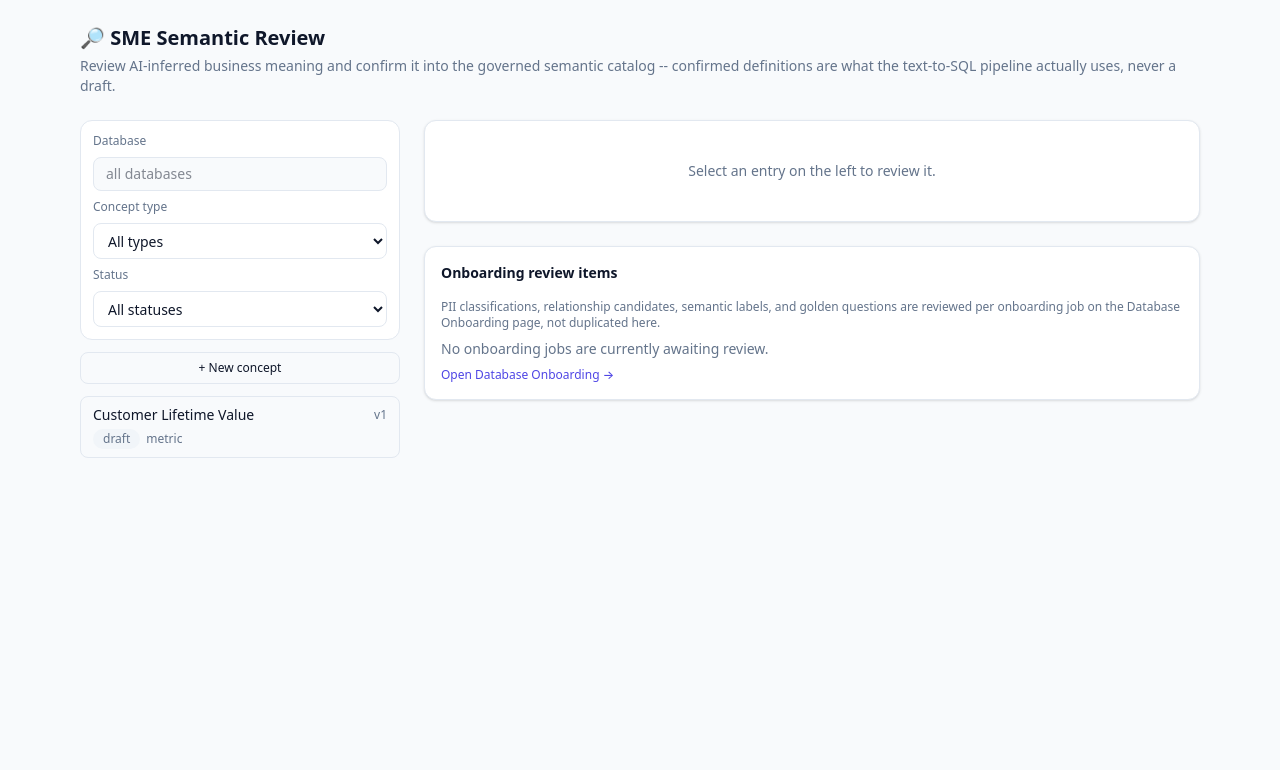
Test: SemanticReview › renders the entry list and selecting one shows its detail
The image size is (1280, 770).
Click the button "Customer Lifetime Value v1 draft metric": (240, 427) top-left (80, 396), bottom-right (400, 458)
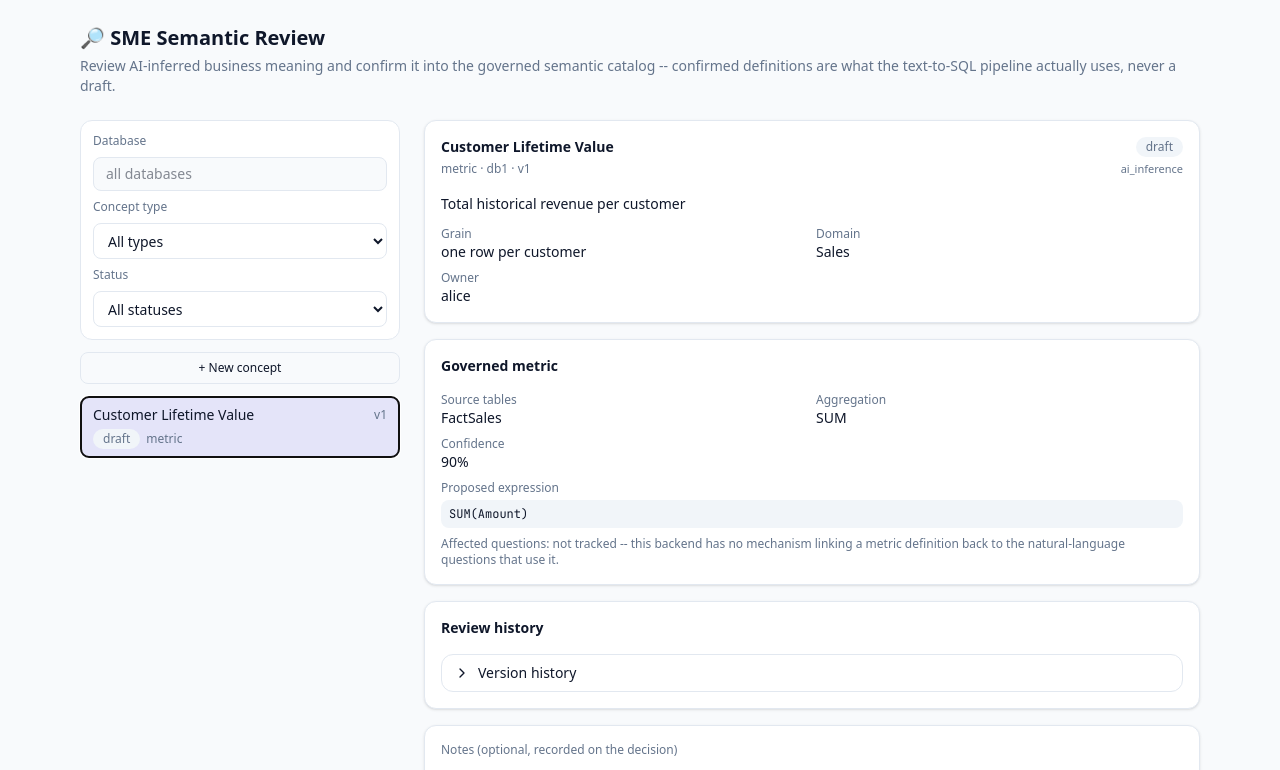
Check: the heading "Customer Lifetime Value" is shown, box top-left (441, 137), bottom-right (614, 157)
Check: the text "SUM(Amount)" is shown, box top-left (441, 500), bottom-right (1183, 528)
Check: the text "Affected questions: not tracked" is shown, box top-left (441, 534), bottom-right (1125, 568)
